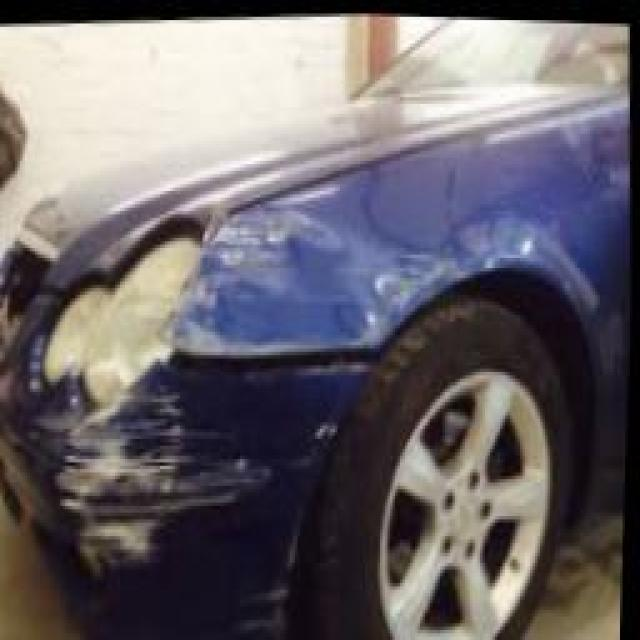Bumper: (3, 351, 365, 640)
Fender: (162, 156, 447, 349)
